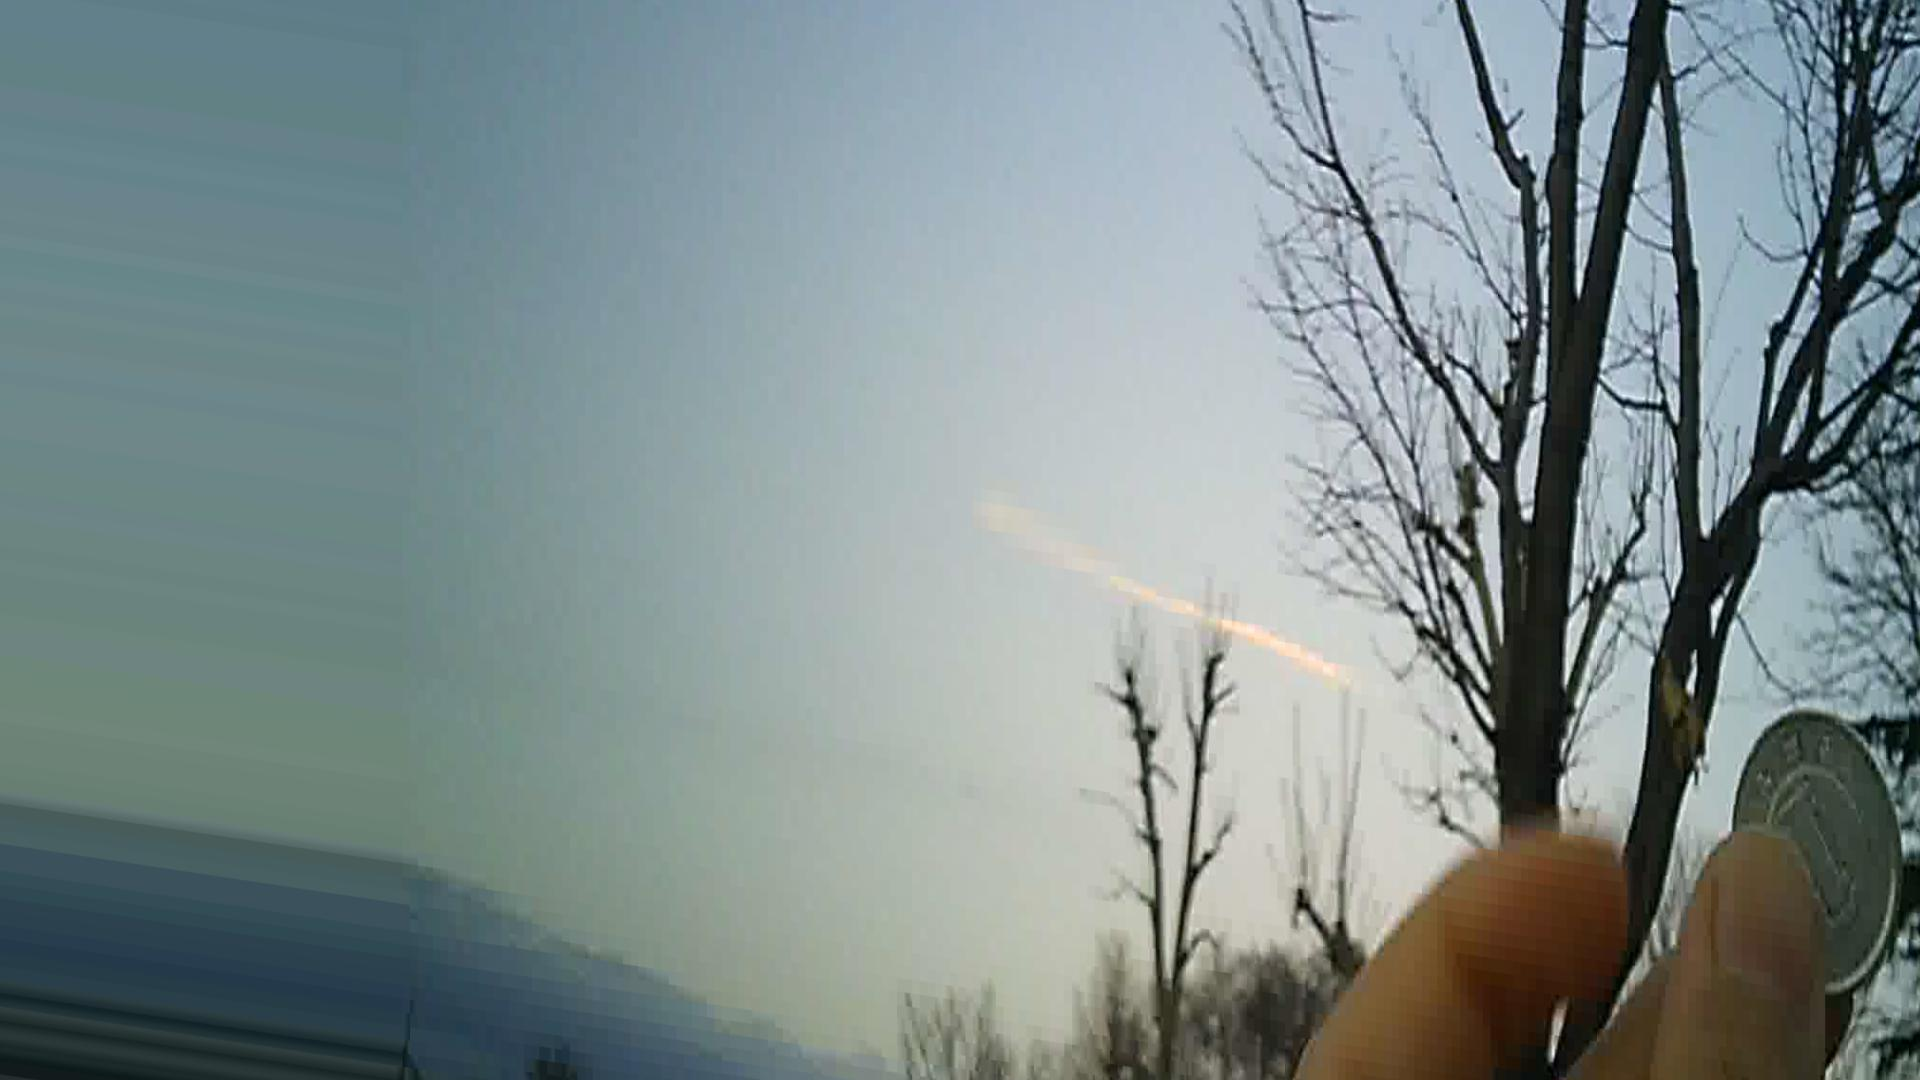1 Yen: (1725, 717, 1908, 998)
